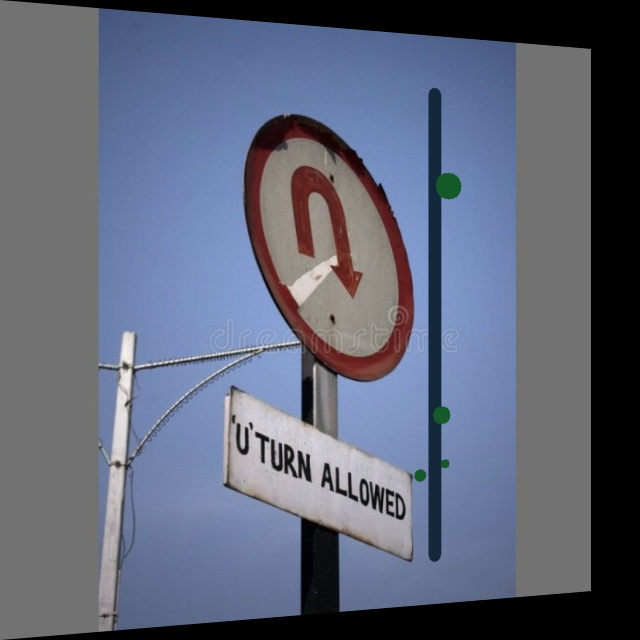U_Turn_Ahead: (246, 98, 432, 385)
